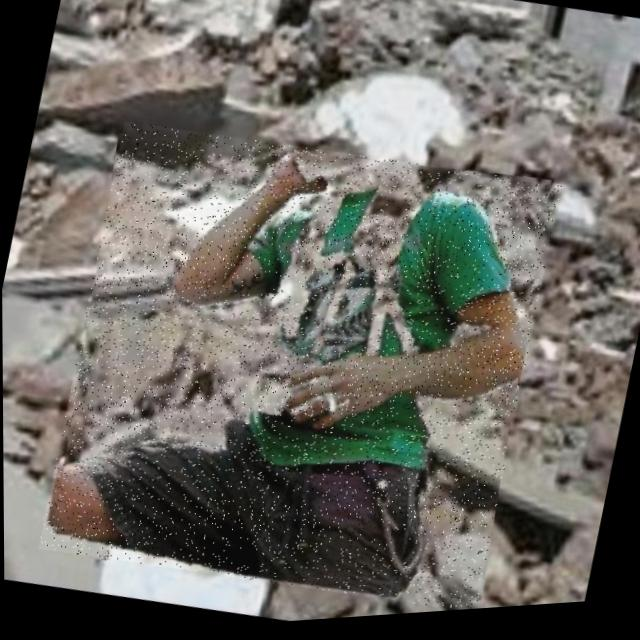Person in Rubble: (34, 100, 563, 638)
